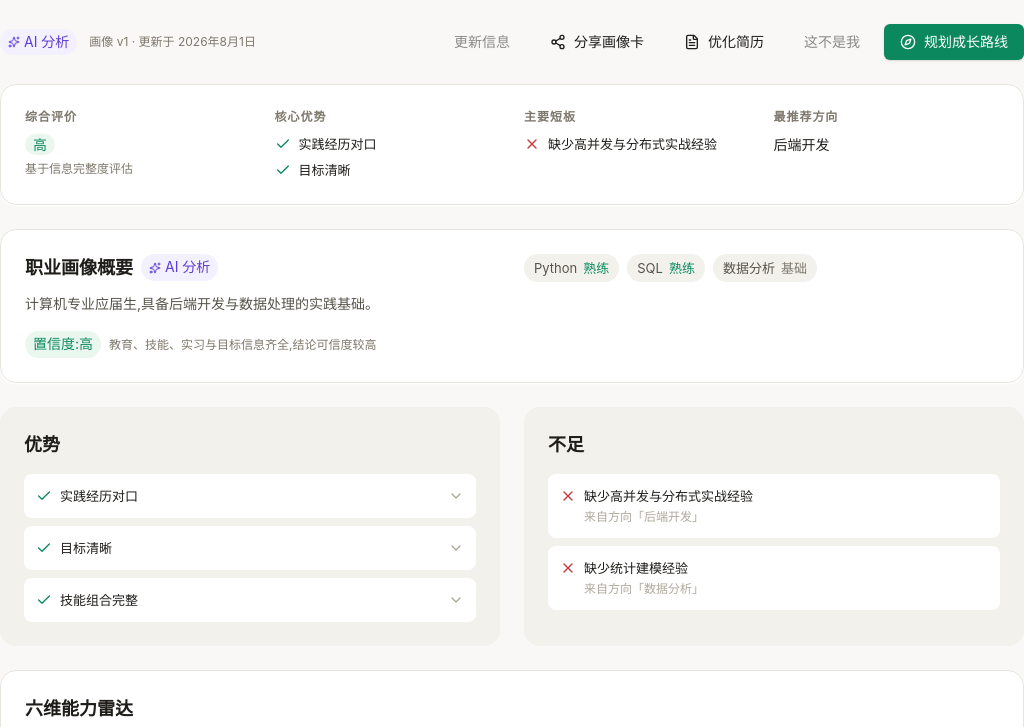
Test case: ProfileResult › 优势可展开:详情默认隐藏,点击后展示 AI 洞察
Expected: the text "两段开发经历均与目标岗位直接相关" is not shown
Click the button "实践经历对口".
click(99, 496)  # box [36, 486, 464, 506]
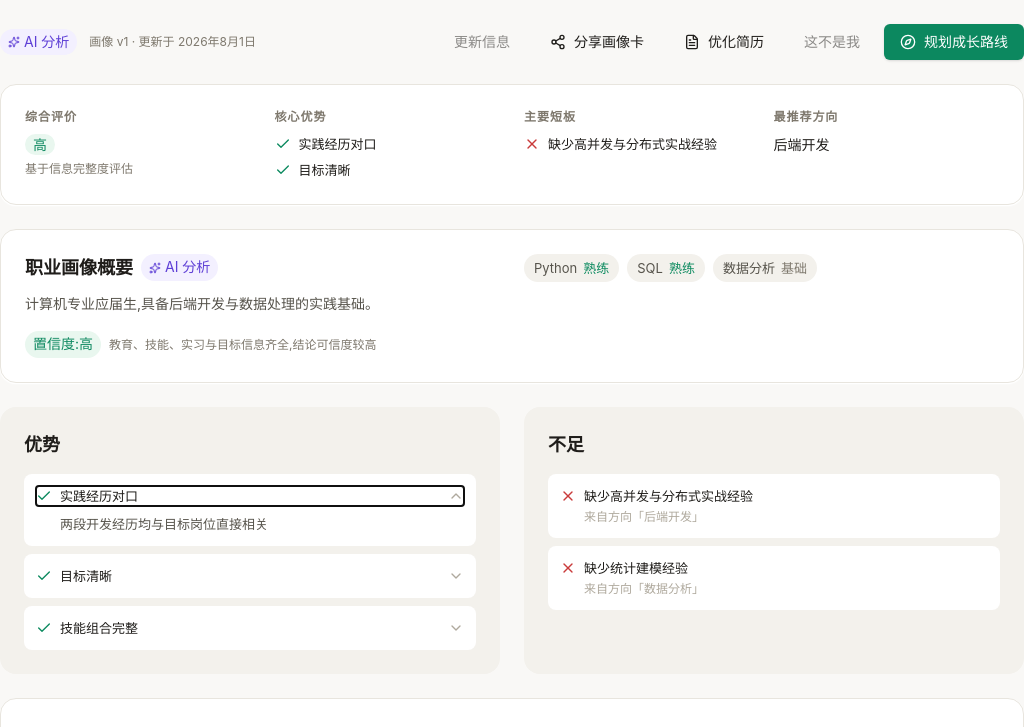
Result: the text "两段开发经历均与目标岗位直接相关" is shown at [60, 516, 268, 532]
Result: the button "实践经历对口" is expanded at [36, 486, 464, 506]
